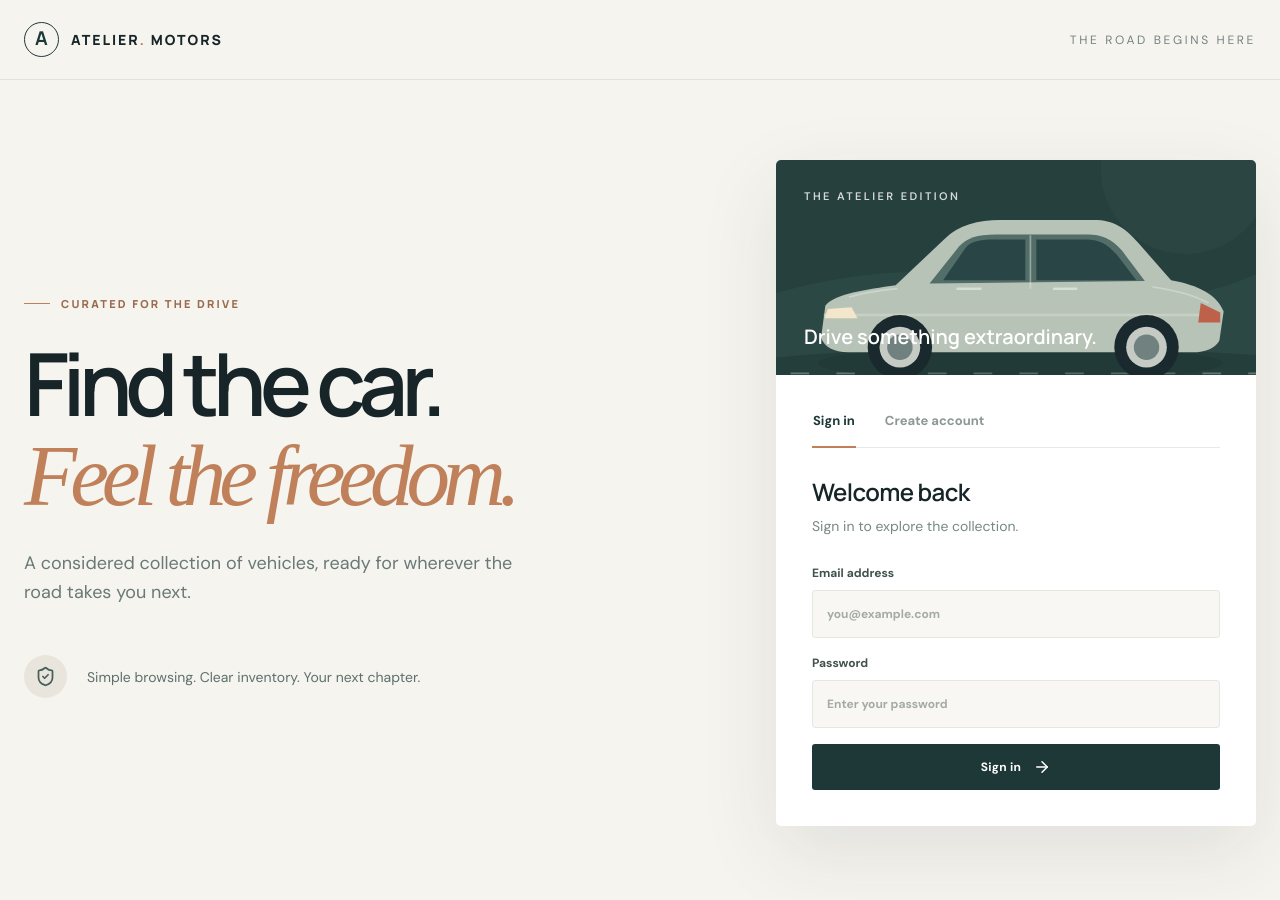
Test case: inventory SPA › supports registration and then signs in
Click the tab "Create account" at point(935, 429), box left=884, top=411, right=985, bottom=448
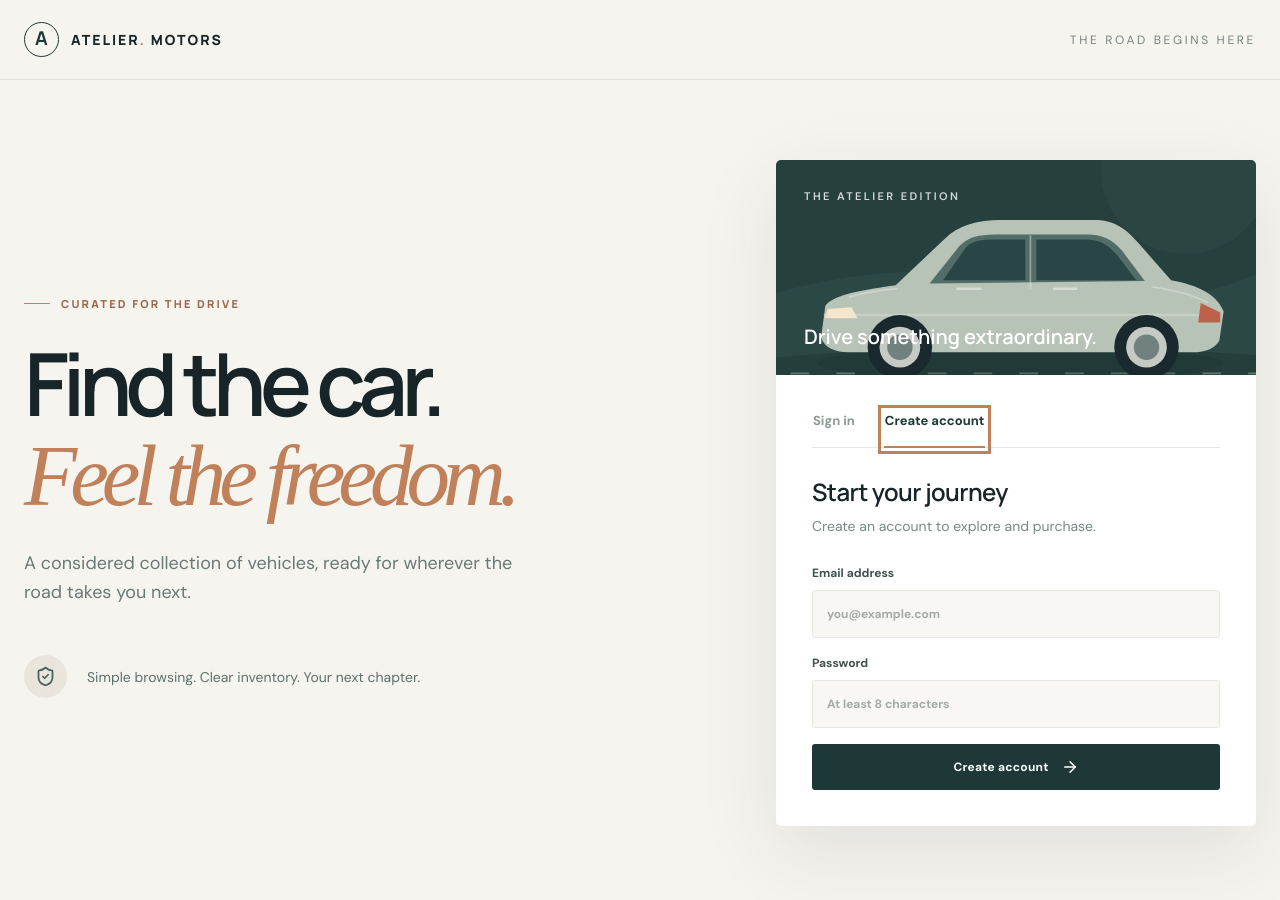
Type "new@example.com" into the field labelled "Email address" at point(1016, 614), box left=812, top=590, right=1220, bottom=638
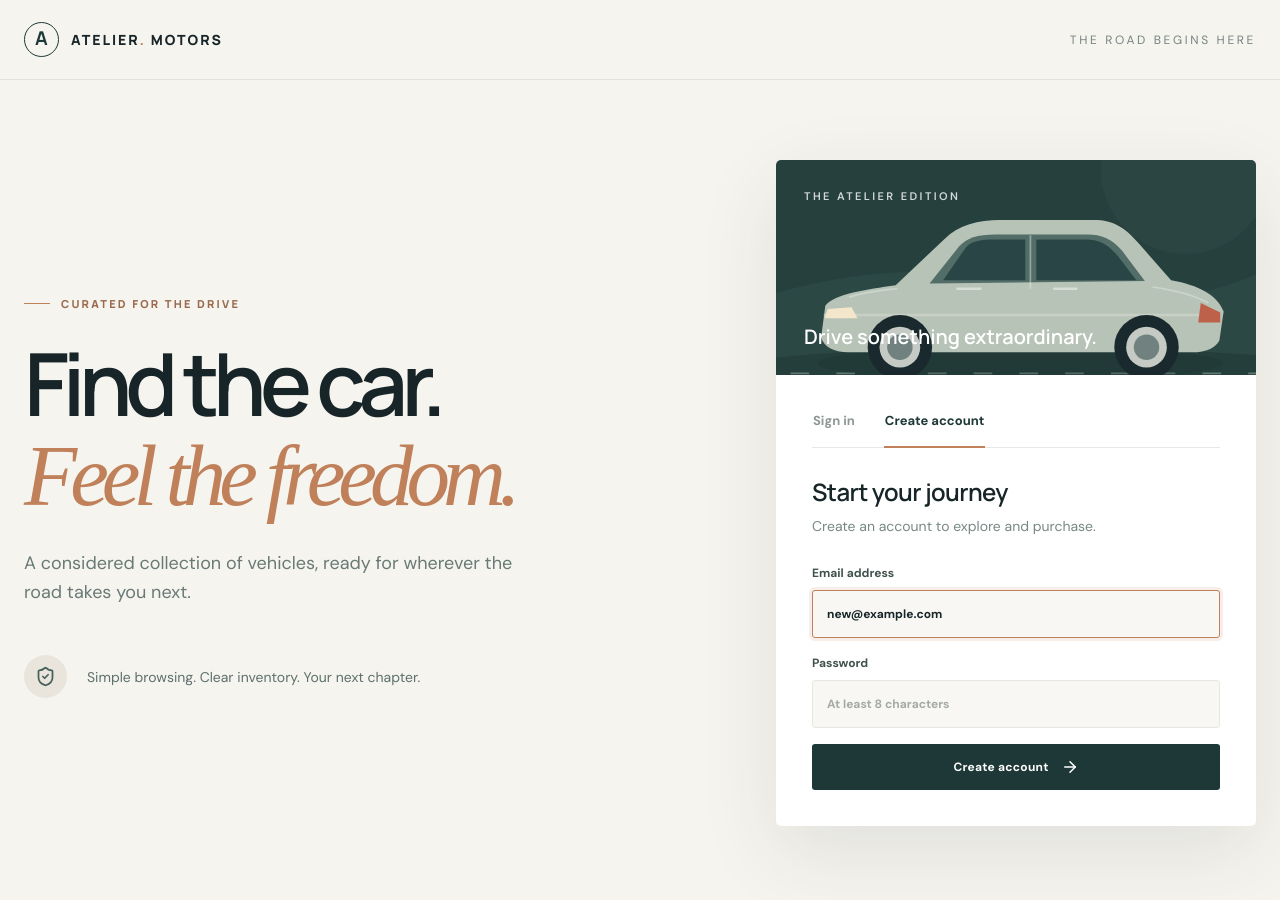
Type "SecurePass123!" into the password field labelled "Password" at point(1016, 704), box left=812, top=680, right=1220, bottom=728
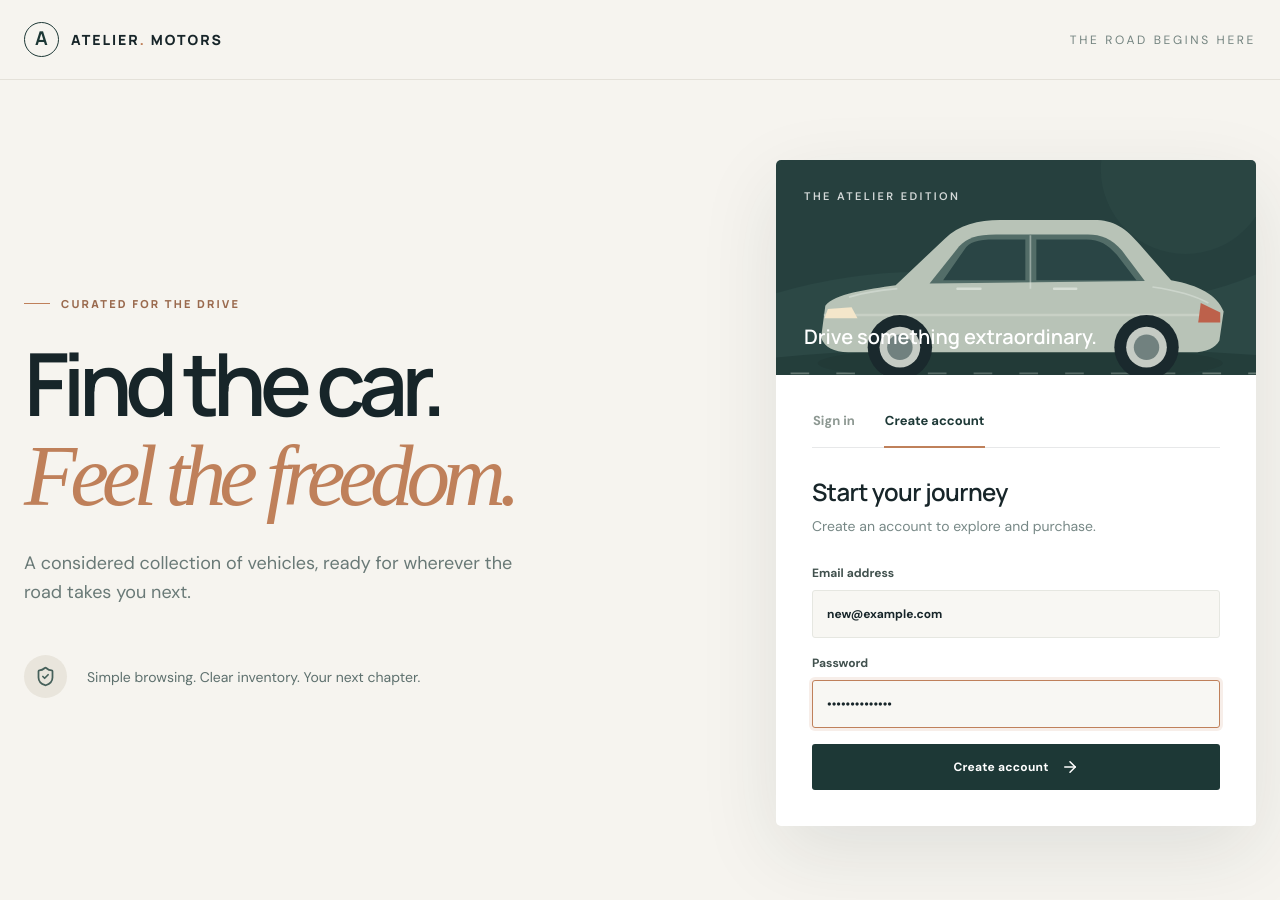
Click the button "Create account" at point(1016, 766), box left=812, top=744, right=1220, bottom=790
(page scrolled)
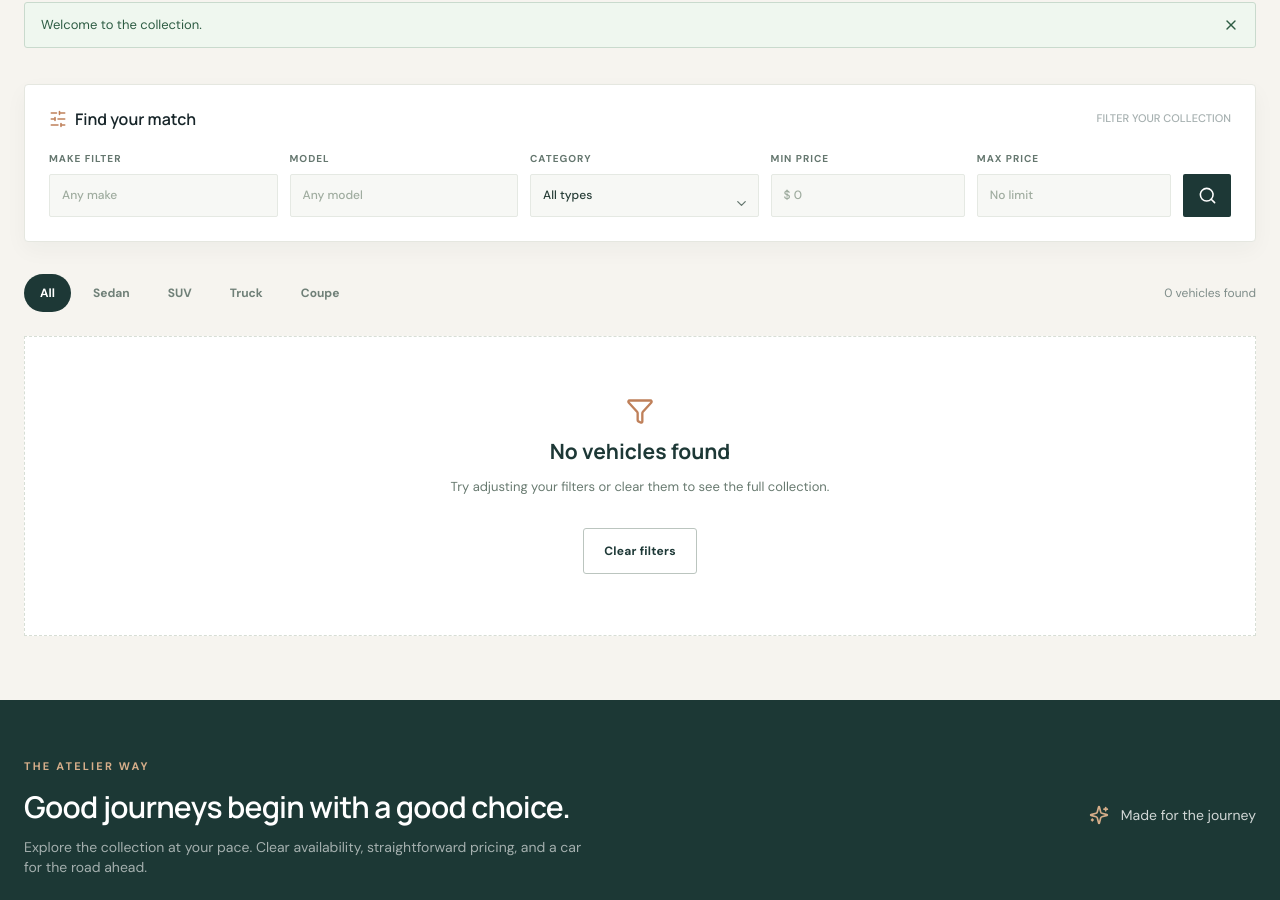
expect the heading "No vehicles found" is shown: met, box left=550, top=437, right=730, bottom=465
